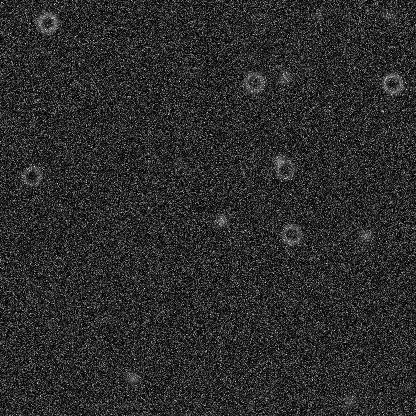Ring: (241, 70, 265, 94), (380, 71, 404, 95), (35, 10, 59, 34), (246, 11, 270, 35), (19, 164, 43, 188), (279, 222, 303, 246), (272, 157, 296, 181)
Spot: (172, 157, 188, 173), (213, 212, 229, 228), (124, 370, 140, 386), (298, 59, 314, 75), (310, 8, 326, 24), (357, 227, 373, 243), (341, 392, 357, 408), (277, 69, 293, 85), (381, 7, 397, 23), (271, 152, 287, 168)
